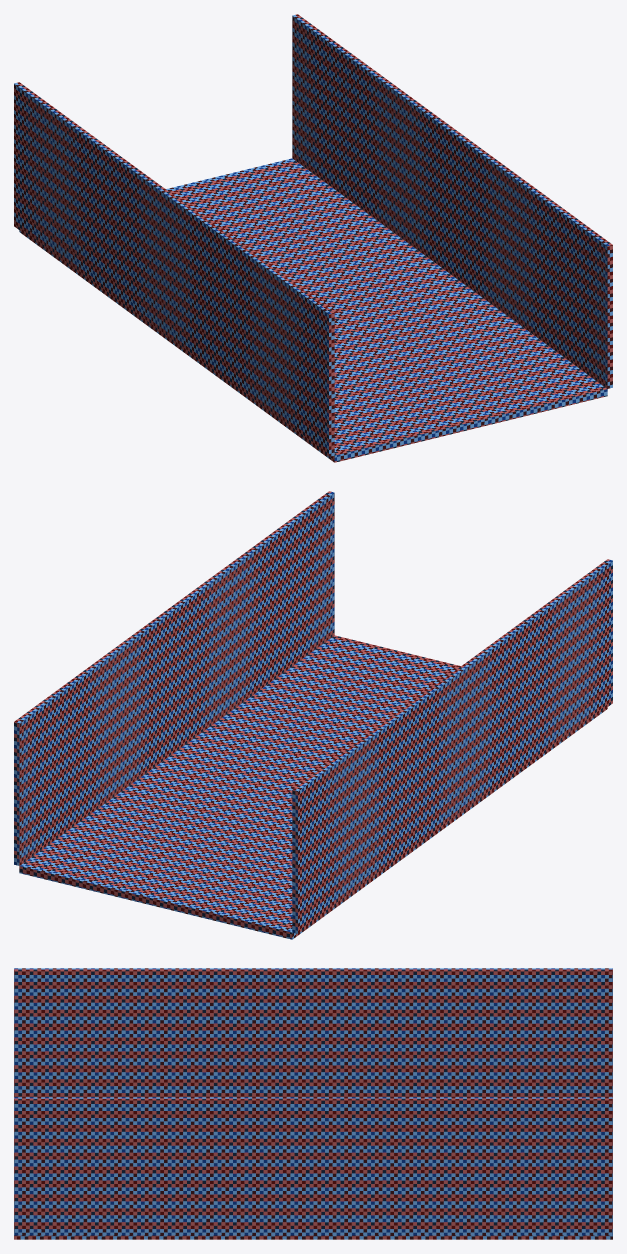
The model's file is Cat_Walk_rail_01.fbx.
The picture shows the model from 3 angles, top to bottom: view 1: azimuth 30°, elevation 25°; view 2: azimuth 150°, elevation 25°; view 3: azimuth 270°, elevation 25°; orthographic projection. The views are drawn at different scales.
Parts seen in each view (by area): view 1: Cat_Walk_rail_01; view 2: Cat_Walk_rail_01; view 3: Cat_Walk_rail_01.
Boxes of the visible parts, x1,y1,x2,y2 form: Cat_Walk_rail_01: (14,14,612,462); Cat_Walk_rail_01: (14,491,612,939); Cat_Walk_rail_01: (14,968,612,1239).
Bounding box in the file's own units: 208 × 105 × 400.
Materials: 1 (1 with a texture image).
